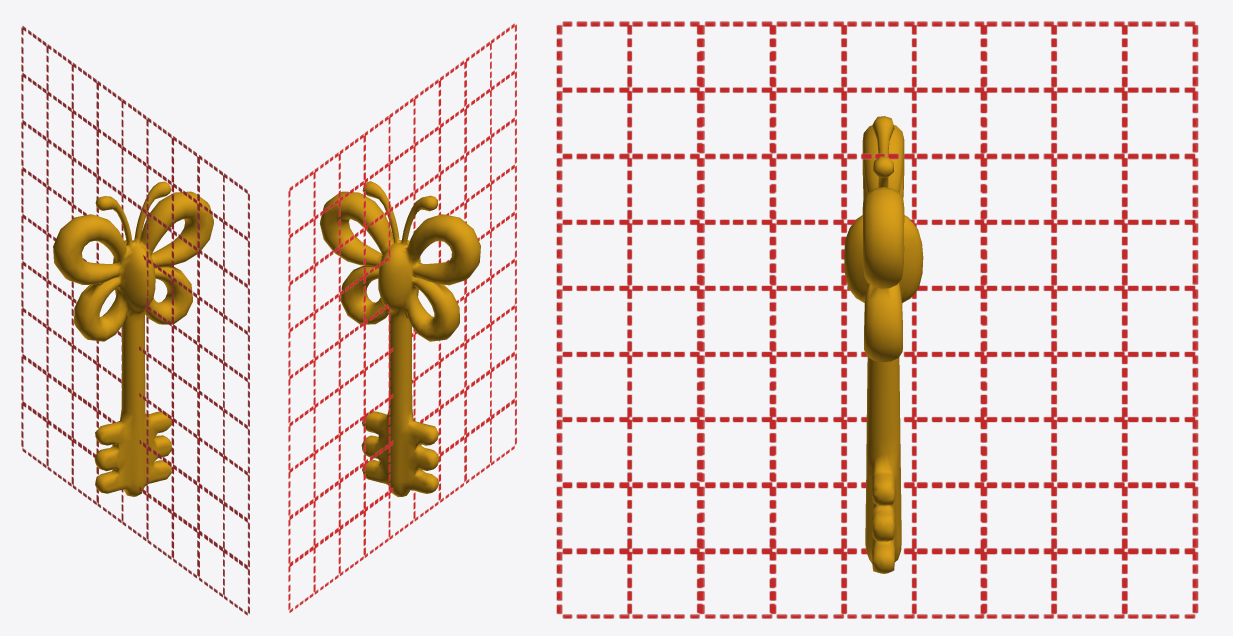
File: chave.glb
The picture shows the model from 3 angles, left to right: view 1: azimuth 30°, elevation 25°; view 2: azimuth 150°, elevation 25°; view 3: azimuth 270°, elevation 25°; orthographic projection. The views are drawn at different scales.
Parts seen in each view (by area): view 1: key_low, eixodesimetriachave; view 2: key_low, eixodesimetriachave; view 3: eixodesimetriachave, key_low.
Part boxes in pixels (x1,y1,x2,y2): key_low: (53,181,213,496); eixodesimetriachave: (21,26,249,615); key_low: (320,181,480,497); eixodesimetriachave: (288,23,516,612); eixodesimetriachave: (556,21,1198,618); key_low: (844,116,923,573).
Bounding box in the file's own units: 2.64 × 7.02 × 7.02.
Materials: 2 (2 with a texture image).
